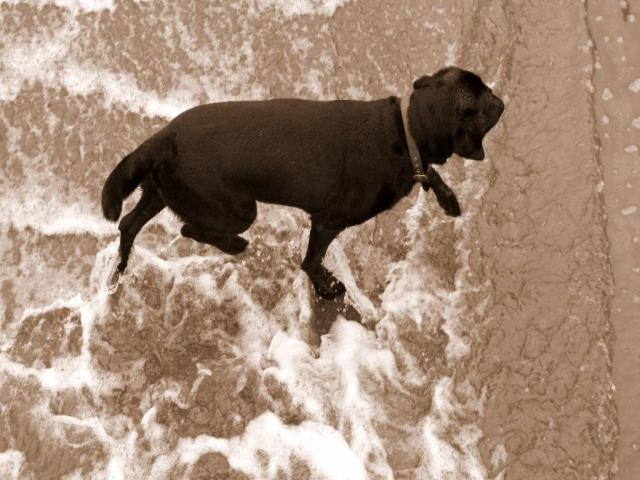Dog: (101, 65, 504, 303)
